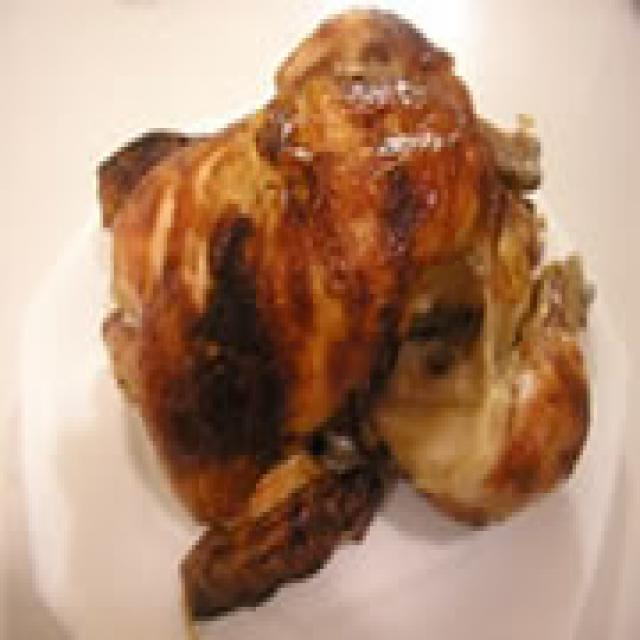Chicken roast: (117, 38, 575, 578)
